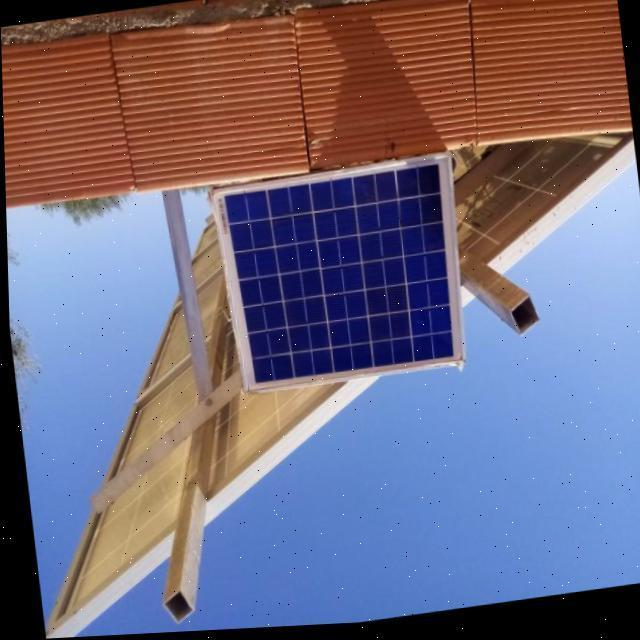Normal Solar Panel: (209, 159, 472, 398)
